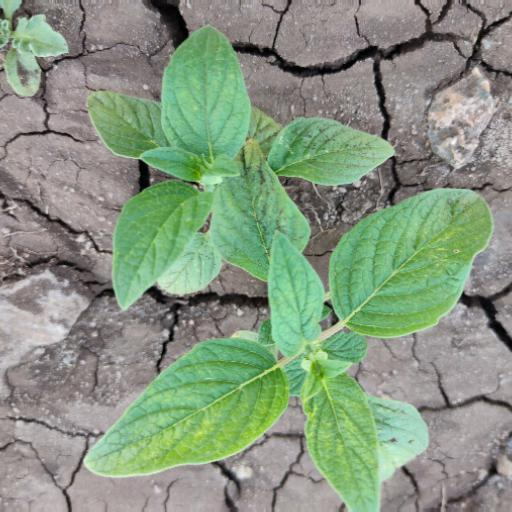crop: (73, 211, 512, 511), (50, 28, 393, 314)
